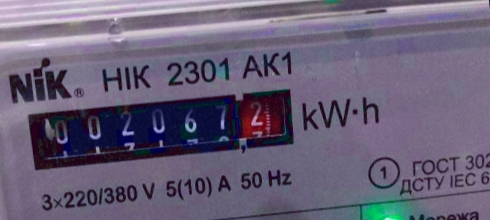0: (50, 116, 71, 147), (83, 111, 103, 142), (146, 105, 167, 134)
2: (245, 98, 266, 128), (116, 108, 136, 138)
6: (179, 104, 200, 135)
7: (212, 101, 231, 133)
screen: (12, 73, 311, 184)
